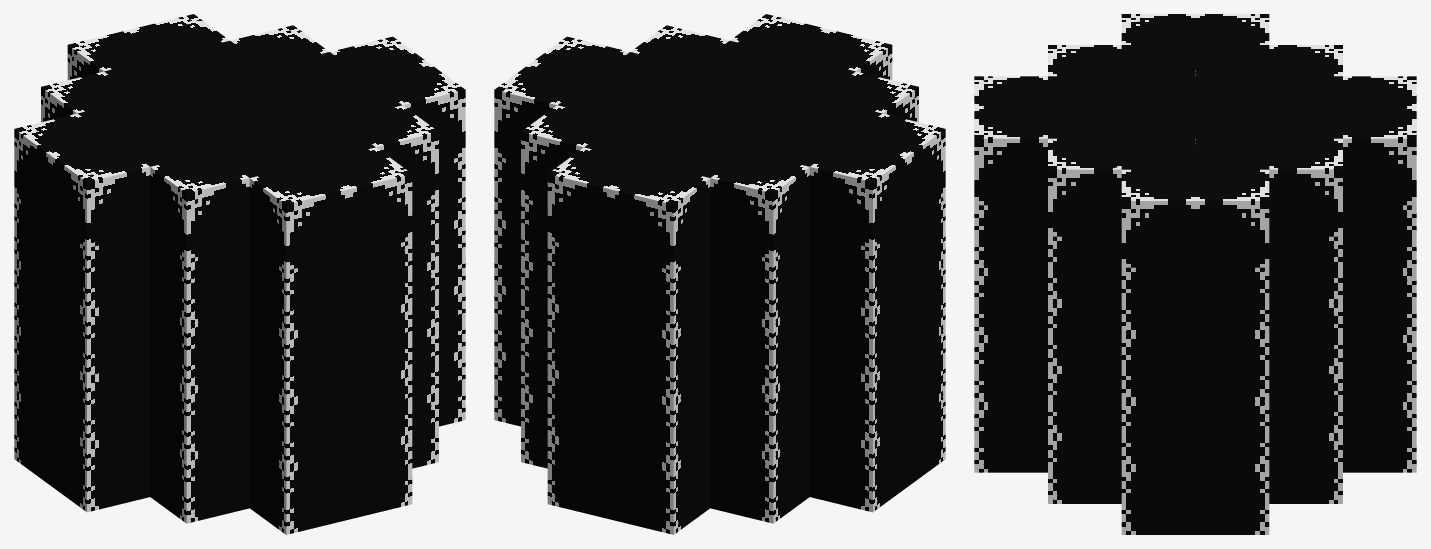
File: PillarWide.gltf
3 renders of one model, left to right at view 1: azimuth 30°, elevation 25°; view 2: azimuth 150°, elevation 25°; view 3: azimuth 270°, elevation 25°, orthographic.
Bounding box in the file's own units: 12 × 10 × 12.
Materials: 1 (1 with a texture image).
